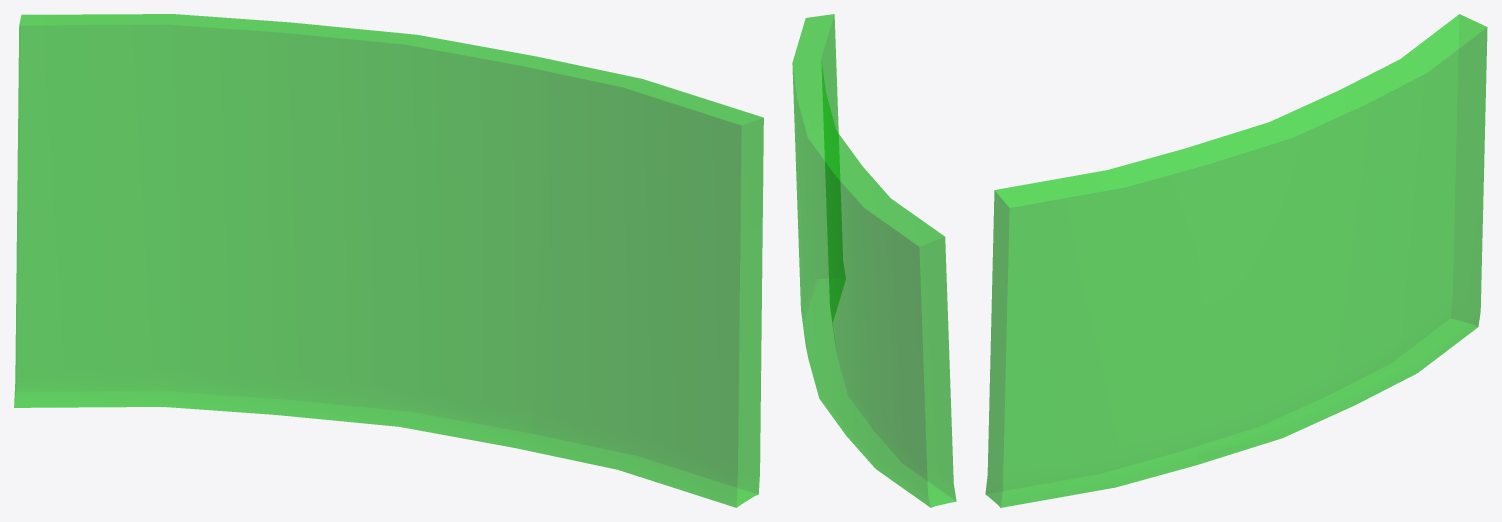
Rendered from display_00v3.fbx.
The picture shows the model from 3 angles, left to right: view 1: azimuth 30°, elevation 25°; view 2: azimuth 150°, elevation 25°; view 3: azimuth 270°, elevation 25°; orthographic projection. The views are drawn at different scales.
Parts seen in each view (by area): view 1: polySurface3; view 2: polySurface3; view 3: polySurface3.
Part boxes in pixels (x1,y1,x2,y2): polySurface3: (14,14,763,507); polySurface3: (792,14,956,507); polySurface3: (985,14,1487,507).
Bounding box in the file's own units: 13.82 × 10.34 × 15.19.
